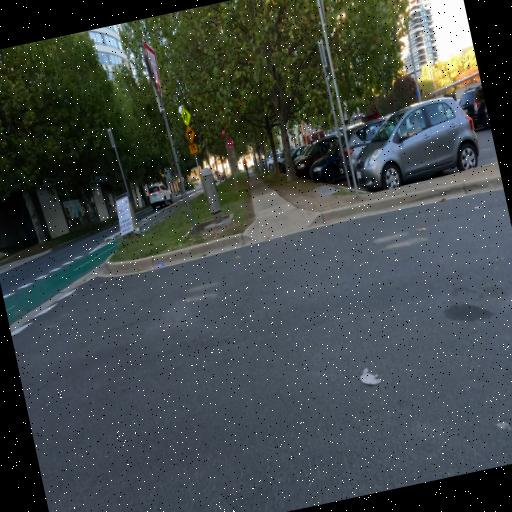kerb_cut: (257, 210, 311, 244)
